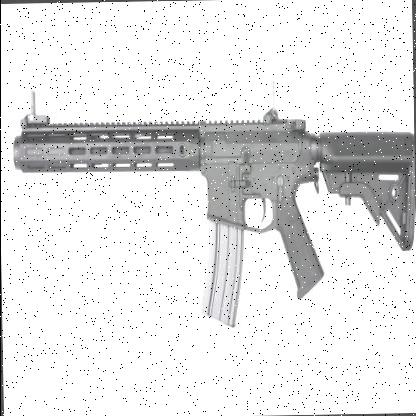rifle: (13, 83, 416, 315)
